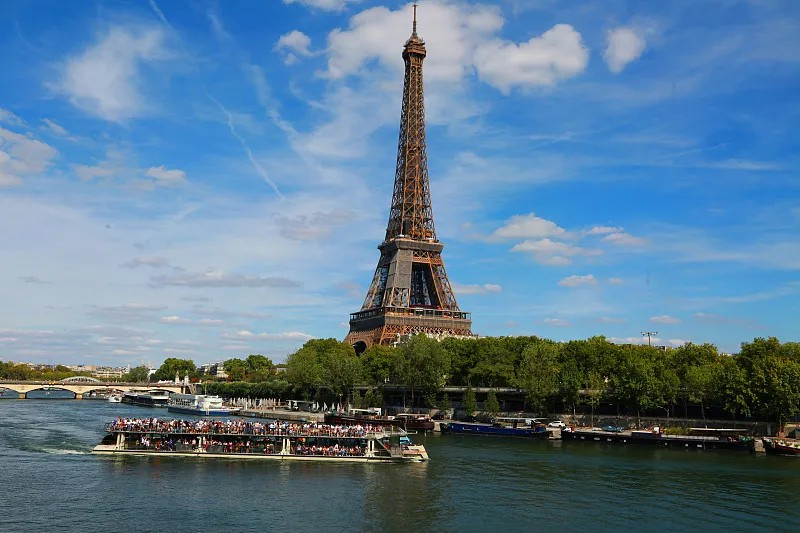Eiffel: (339, 4, 479, 350)
